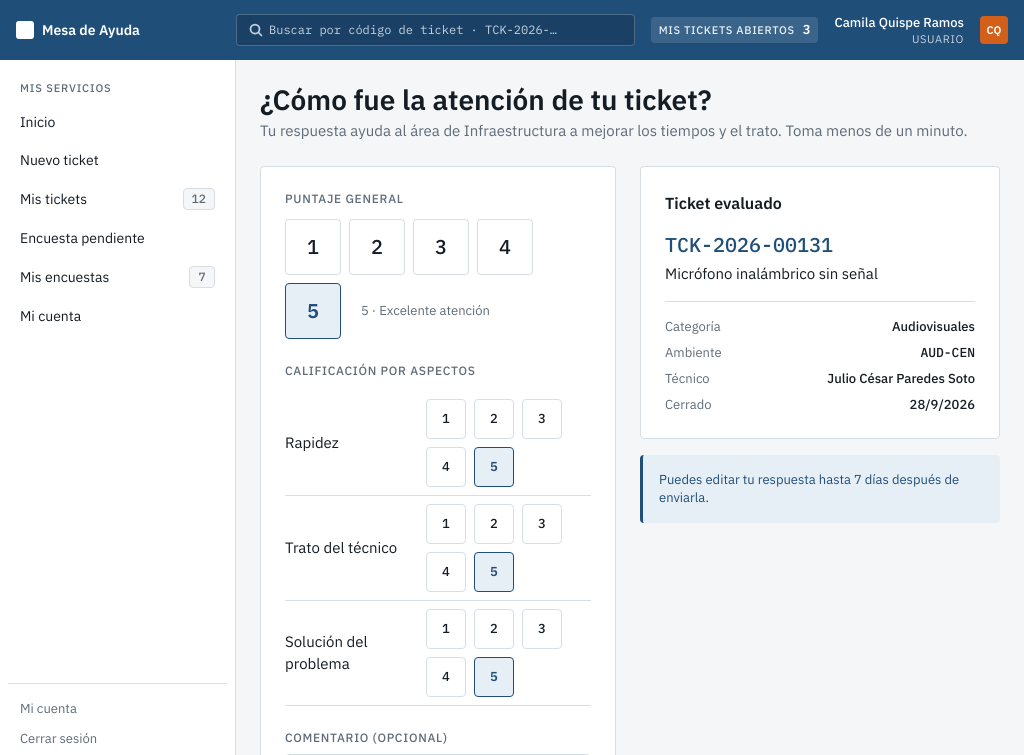
Test: EncuestaPage (Vista 6.1) › permite calificar un ticket pendiente y enviar la encuesta
Expected: the heading "¿Cómo fue la atención de tu ticket?" is shown, [260,81,712,118]
Click the button "5" next to "5 · Excelente atención" at (313, 311), box [285,283,341,339]
(page scrolled)
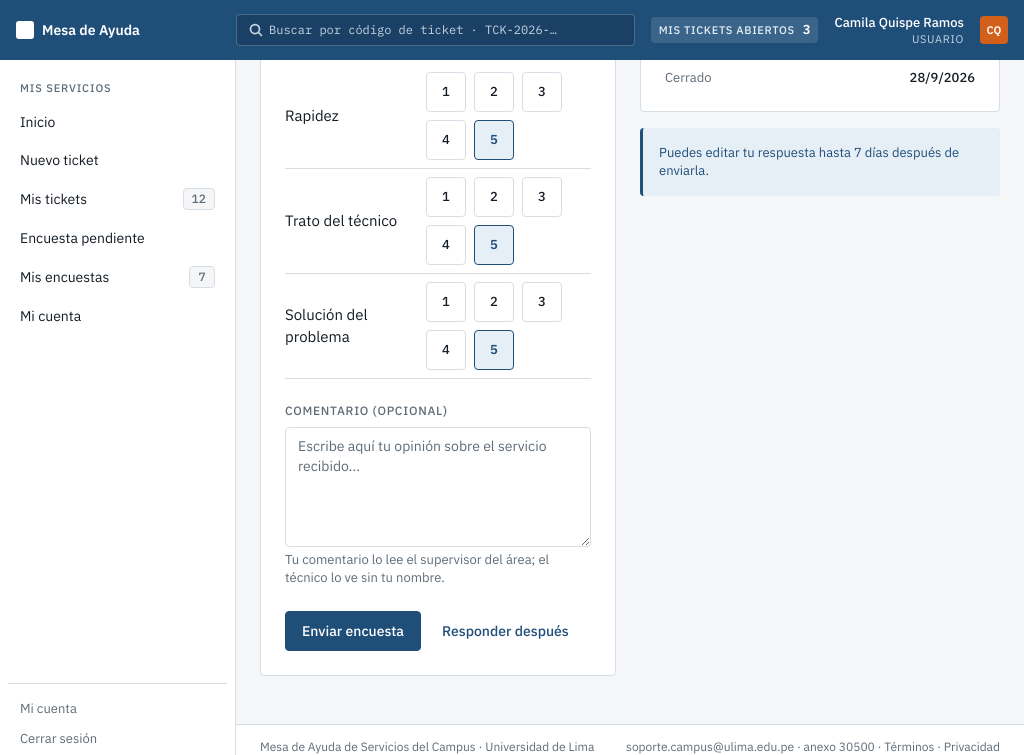
Type "Muy buen servicio y rápido." into the text box labelled "COMENTARIO (OPCIONAL)" at (438, 487), box [285,427,591,547]
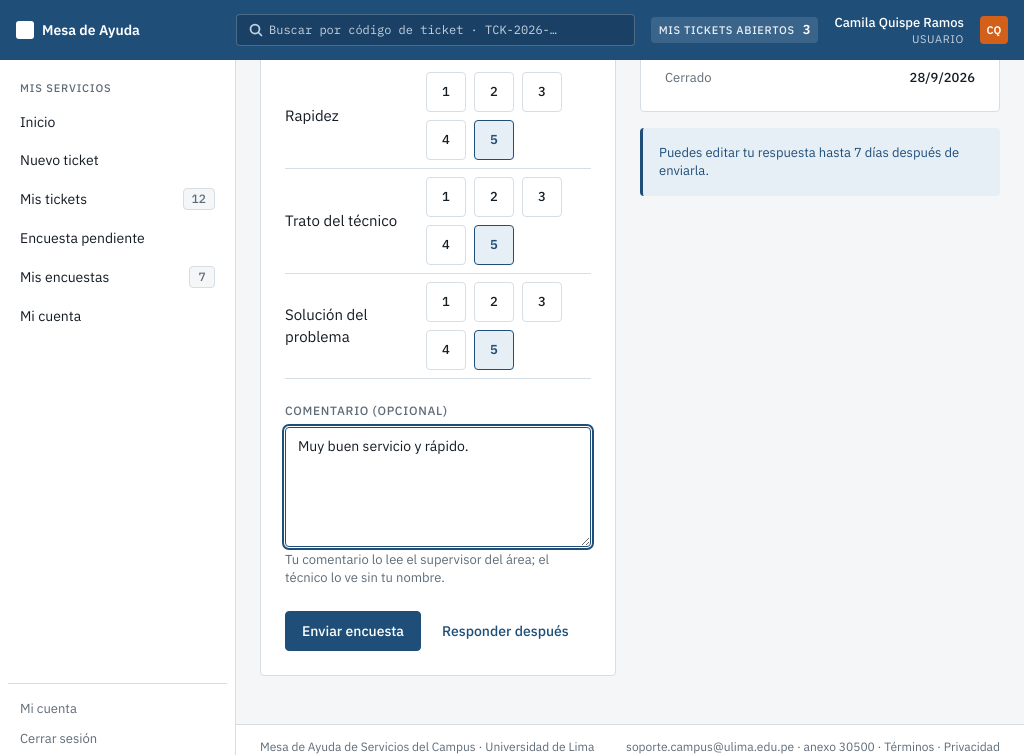
Click the button "Enviar encuesta" at (353, 631), box [285,611,421,651]
(page scrolled)
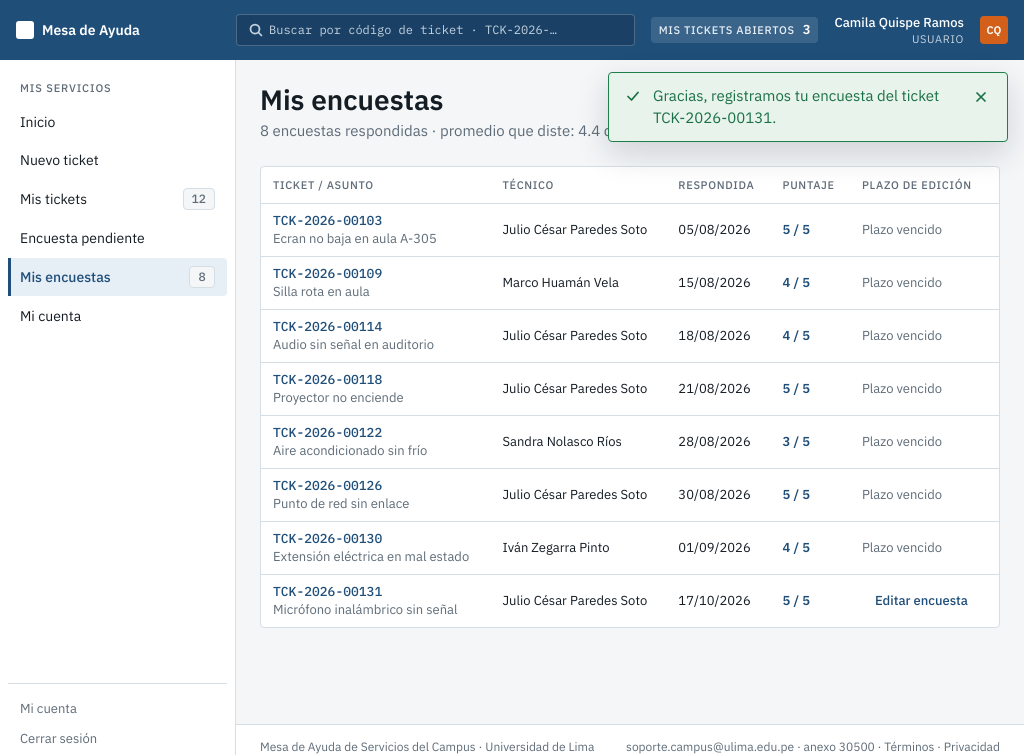
Now the heading "Mis encuestas" is shown, box [260,81,444,118]
